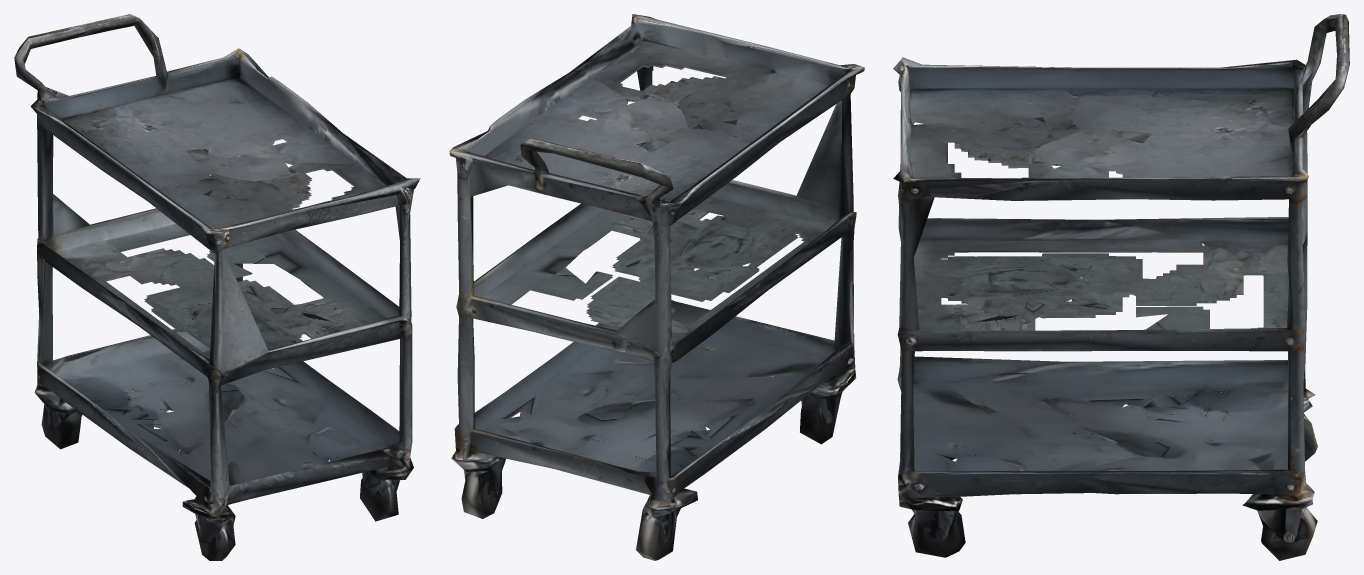
File: utility_cart.fbx
The picture shows the model from 3 angles, left to right: view 1: azimuth 30°, elevation 25°; view 2: azimuth 150°, elevation 25°; view 3: azimuth 270°, elevation 25°; orthographic projection. The views are drawn at different scales.
Parts seen in each view (by area): view 1: utility_cart; view 2: utility_cart; view 3: utility_cart.
Boxes of the visible parts, box(x1,y1,x2,y2) form: utility_cart: box(14, 14, 420, 560); utility_cart: box(449, 14, 864, 560); utility_cart: box(893, 14, 1349, 560).
Bounding box in the file's own units: 0.6373 × 1.08 × 1.
Materials: 1 (1 with a texture image).
